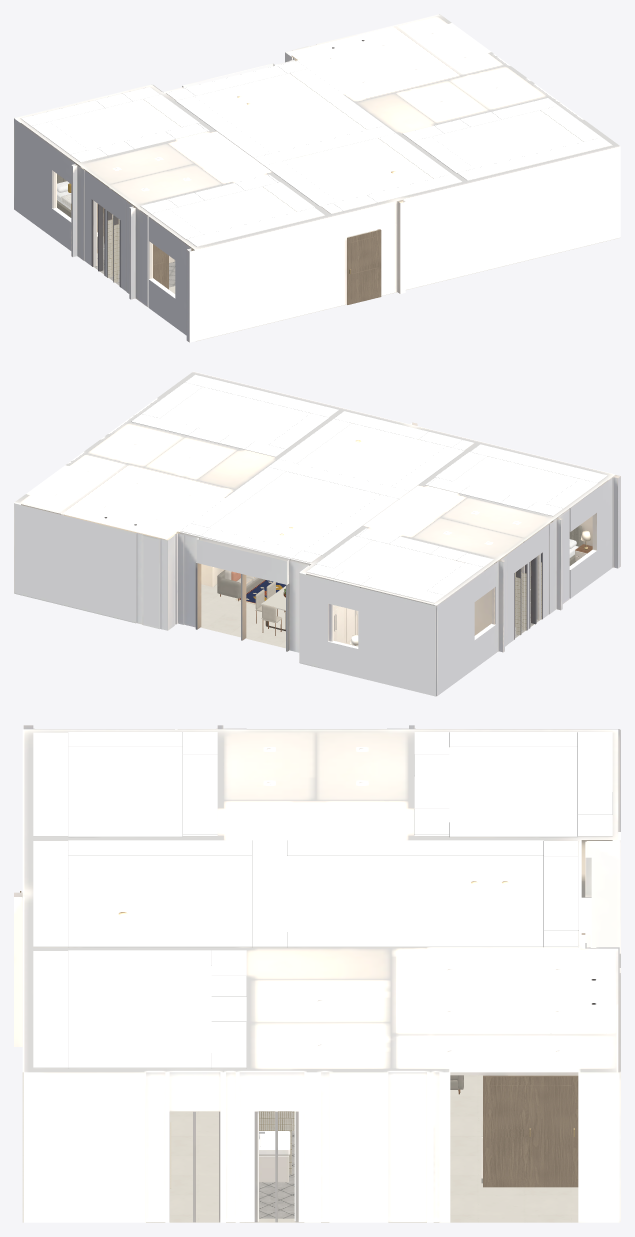
Rendered from flat01.glb.
The picture shows the model from 3 angles, top to bottom: view 1: azimuth 30°, elevation 25°; view 2: azimuth 150°, elevation 25°; view 3: azimuth 270°, elevation 25°; orthographic projection. The views are drawn at different scales.
Parts seen in each view (by area): view 1: Ceiling, lintel0, FB ceiling Bedroom (NE), leaf2, post6_0.0, Floor, Bedroom (NE) bed 1 modern bed; view 2: Ceiling, lintel0, FB ceiling Bedroom (NE), Floor, post6_0.0, Bedroom (NE) wardrobe 1 carcass, Dining (Centre) sofa 1 designer L sectional, Bedroom (NE) bed 1 modern bed, Dining (Centre) chair 1 modern chair; view 3: Ceiling, lintel0, FB ceiling Bedroom (NE), Floor, leaf2, post6_0.0, Bedroom (NE) wardrobe 1 door 0.
Part boxes in pixels (x1,y1,x2,y2): Ceiling: (15, 14, 620, 250); lintel0: (14, 14, 620, 342); FB ceiling Bedroom (NE): (20, 33, 612, 246); leaf2: (97, 203, 381, 304); post6_0.0: (91, 199, 174, 287); Floor: (93, 230, 620, 341); Bedroom (NE) bed 1 modern bed: (57, 174, 71, 217); Ceiling: (14, 371, 615, 605); lintel0: (14, 422, 620, 696); FB ceiling Bedroom (NE): (55, 374, 607, 605); Floor: (200, 584, 539, 648); post6_0.0: (195, 552, 542, 651); Bedroom (NE) wardrobe 1 carcass: (201, 564, 358, 642); Dining (Centre) sofa 1 designer L sectional: (217, 570, 264, 598); Bedroom (NE) bed 1 modern bed: (220, 525, 592, 635); Dining (Centre) chair 1 modern chair: (246, 577, 281, 622); Ceiling: (22, 729, 618, 1072); lintel0: (14, 725, 620, 1222); FB ceiling Bedroom (NE): (33, 732, 612, 1068); Floor: (22, 1072, 578, 1222); leaf2: (20, 891, 578, 1187); post6_0.0: (169, 897, 591, 1222); Bedroom (NE) wardrobe 1 door 0: (259, 1155, 288, 1182).
Size of the model in its own units: 14.11 by 2.86 by 10.42.
63 materials, 44 textured.
